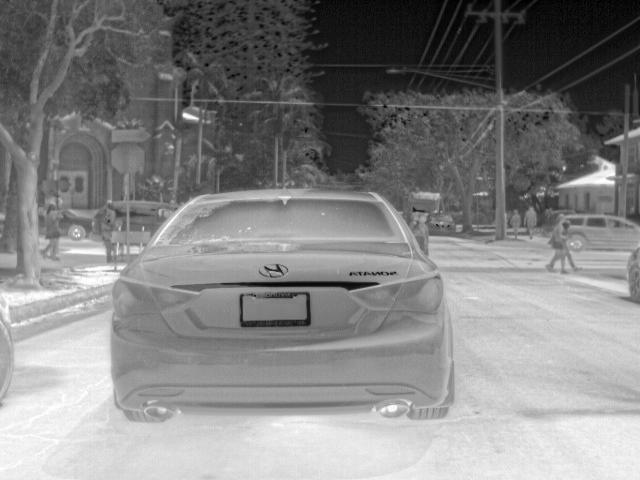car: (109, 189, 458, 424), (116, 200, 180, 246), (567, 212, 639, 252), (1, 298, 16, 404), (58, 204, 93, 240), (426, 210, 456, 238), (627, 245, 640, 303)
person: (543, 215, 582, 272), (96, 198, 119, 262), (41, 196, 63, 261), (415, 212, 432, 259), (522, 205, 543, 237), (509, 206, 524, 238), (407, 211, 421, 235)
